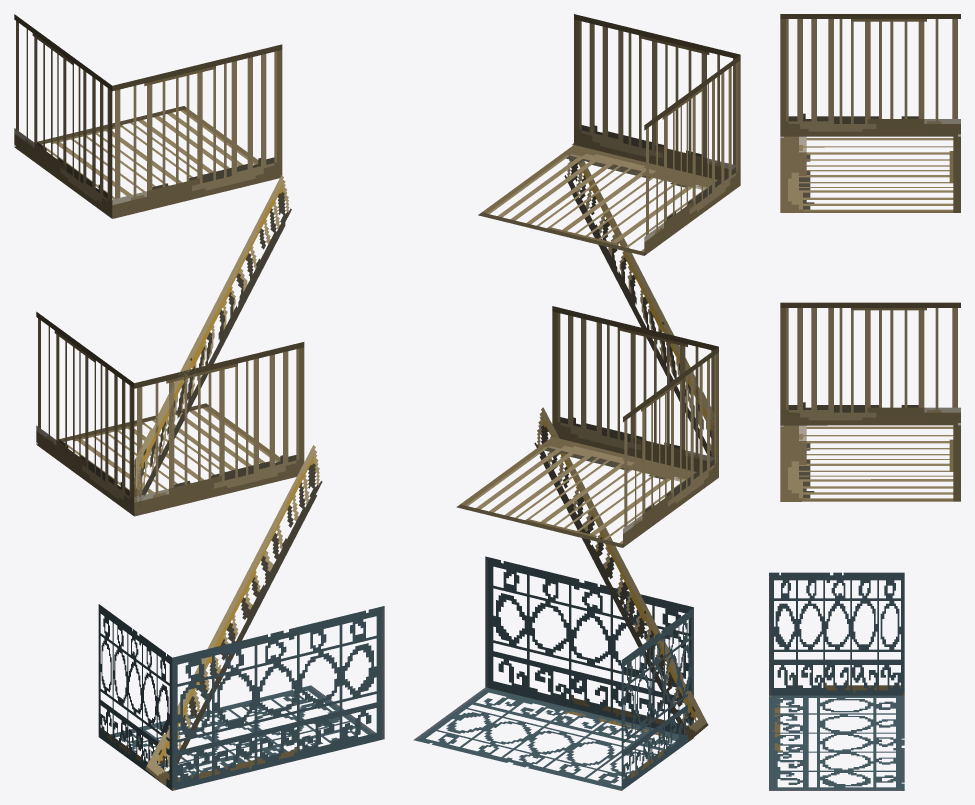
The model's file is fireescape2.gltf.
The picture shows the model from 3 angles, left to right: view 1: azimuth 30°, elevation 25°; view 2: azimuth 150°, elevation 25°; view 3: azimuth 270°, elevation 25°; orthographic projection. The views are drawn at different scales.
Parts seen in each view (by area): view 1: fireescape2; view 2: fireescape2; view 3: fireescape2.
Boxes of the visible parts, <box> form: fireescape2: <box>14,14,384,790</box>; fireescape2: <box>413,14,740,790</box>; fireescape2: <box>769,14,960,790</box>.
Size of the model in its own units: 6.27 by 16.06 by 4.25.
1 material, 1 textured.
